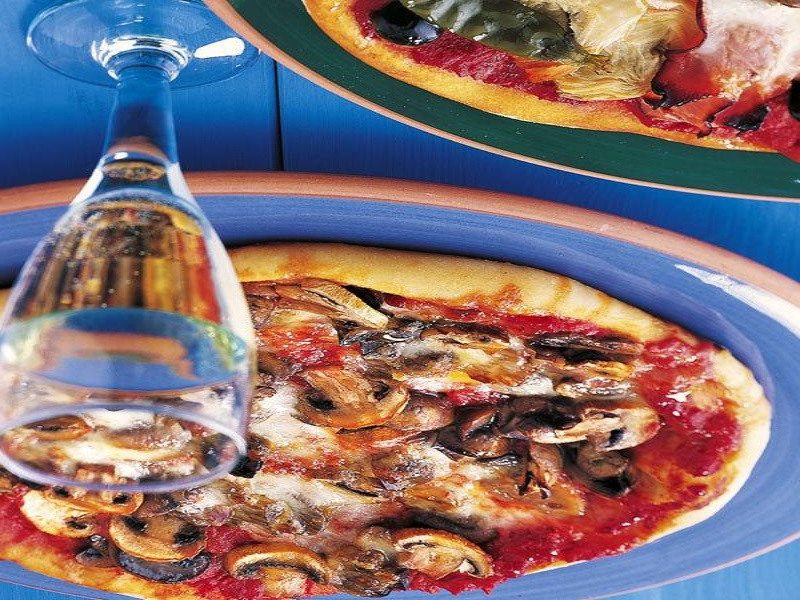champignon: (521, 396, 672, 461), (293, 362, 413, 435), (220, 536, 353, 592), (104, 501, 213, 566), (393, 526, 497, 587)
